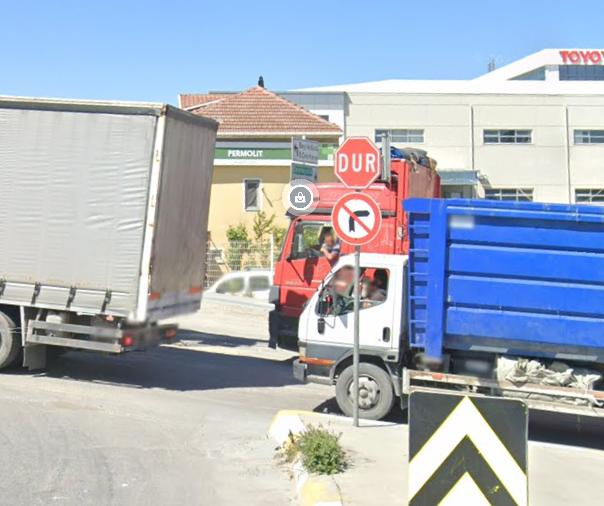rightturnsareforbidden: (333, 194, 381, 243)
stop: (334, 137, 380, 188)
